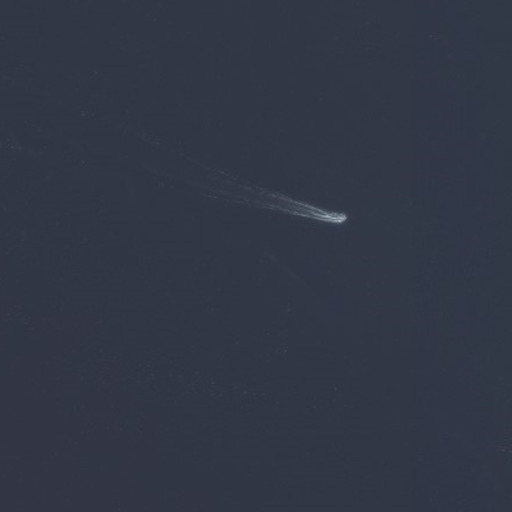ship: (322, 209, 350, 225)
